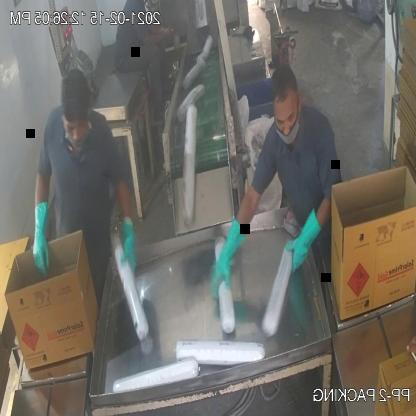glove: (278, 199, 332, 283), (207, 209, 251, 310), (27, 188, 52, 282), (113, 213, 139, 288)
no_glove: (130, 28, 180, 56)
